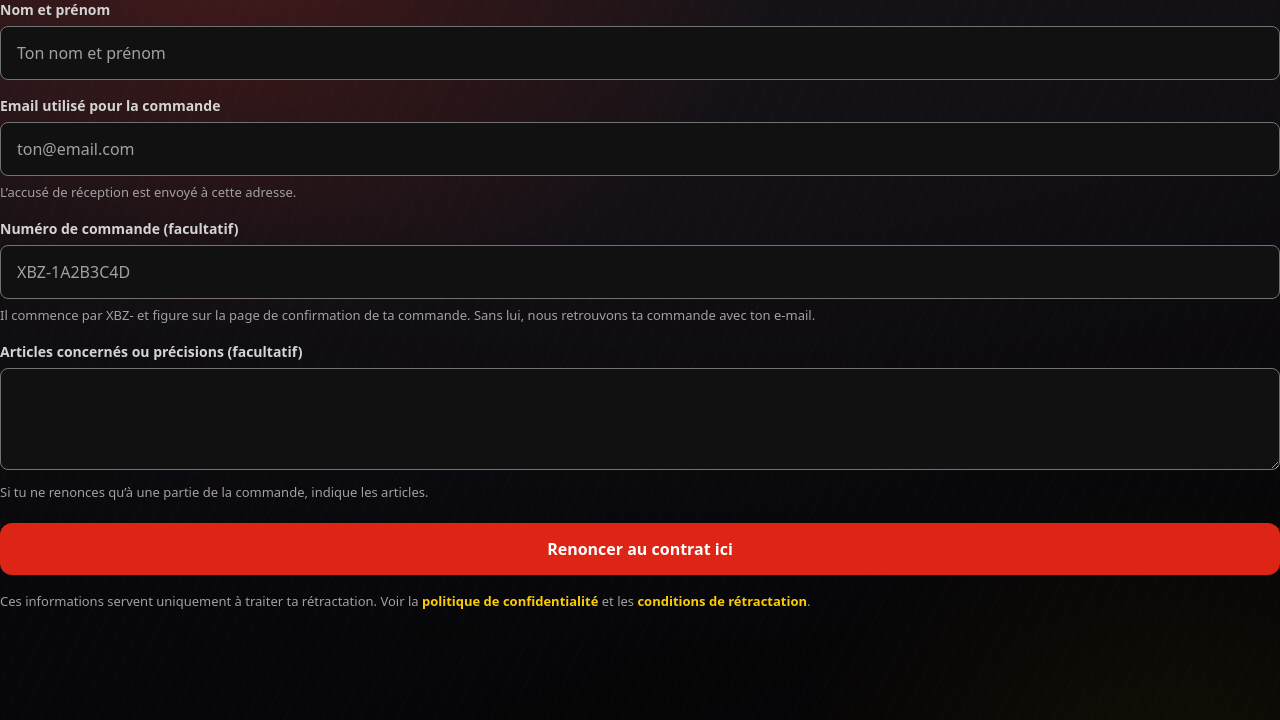
Test: WithdrawalForm — « Renoncer au contrat ici », puis « Confirmer la rétractation » › révision : champs facultatifs vides → libellés accordés (« Non précisée », « Aucune précision »)
Type "Jeanne Martin" into the field named "nom" at [640, 53], box [0,26,1279,80]
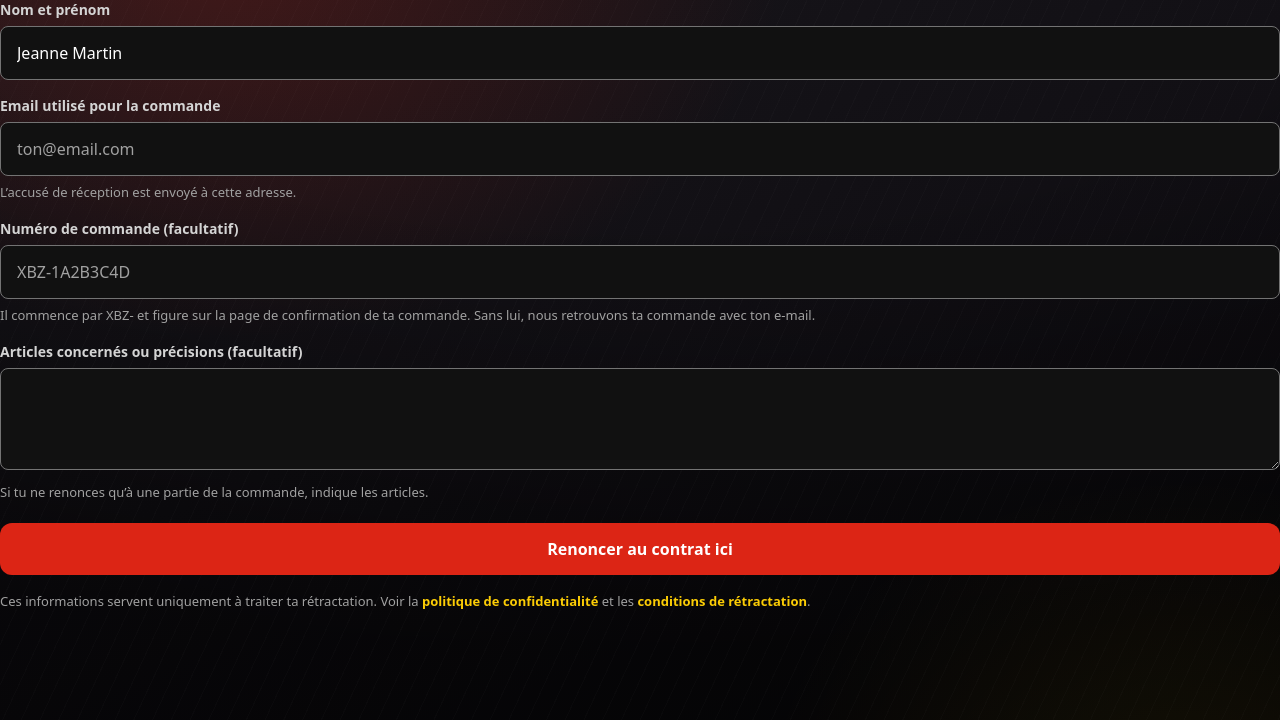
Type "jeanne@exemple.fr" into the field named "email" at [640, 149], box [0,122,1279,176]
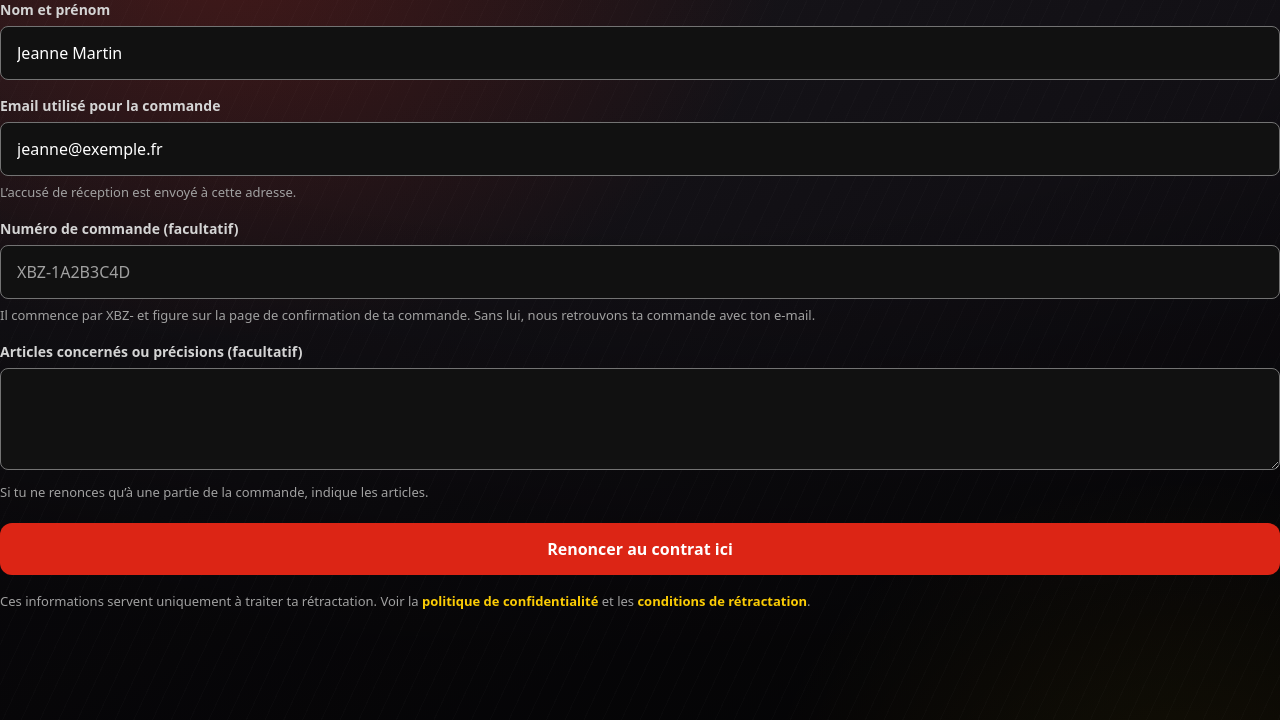
Submit the form
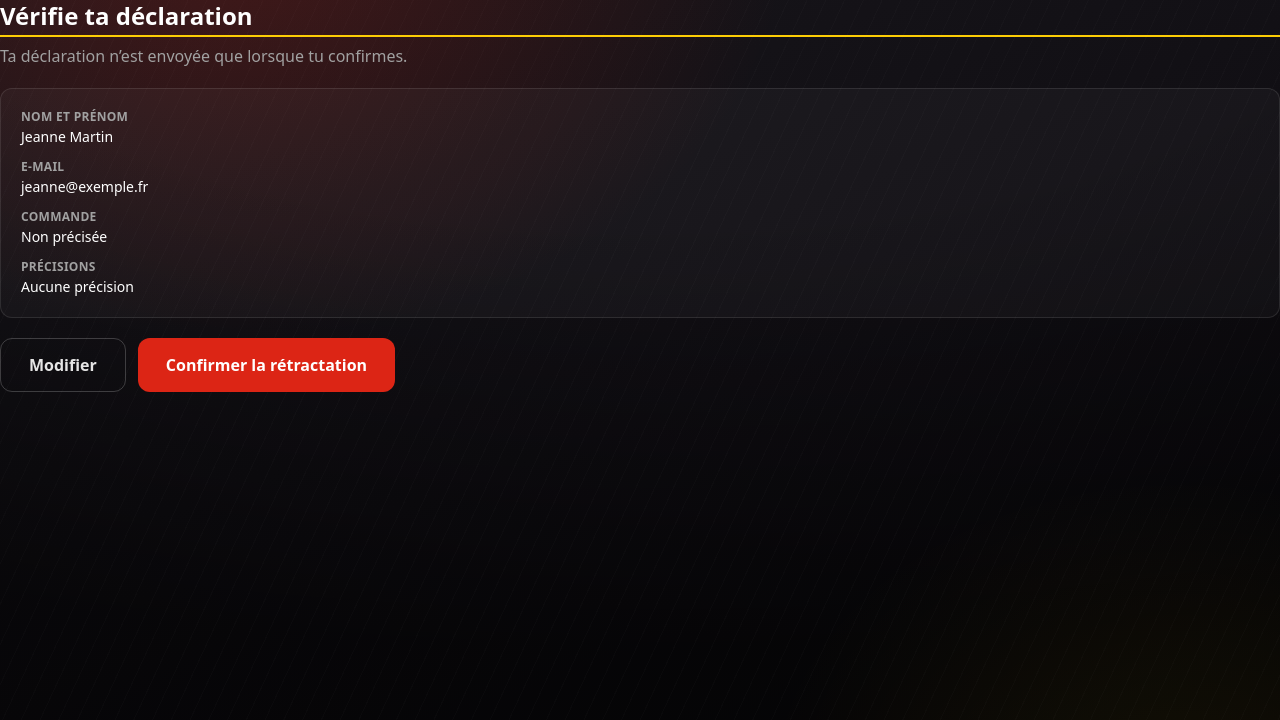
expect the text "Non précisée" is shown: met, box [21,227,107,246]
expect the text "Aucune précision" is shown: met, box [21,277,134,296]
